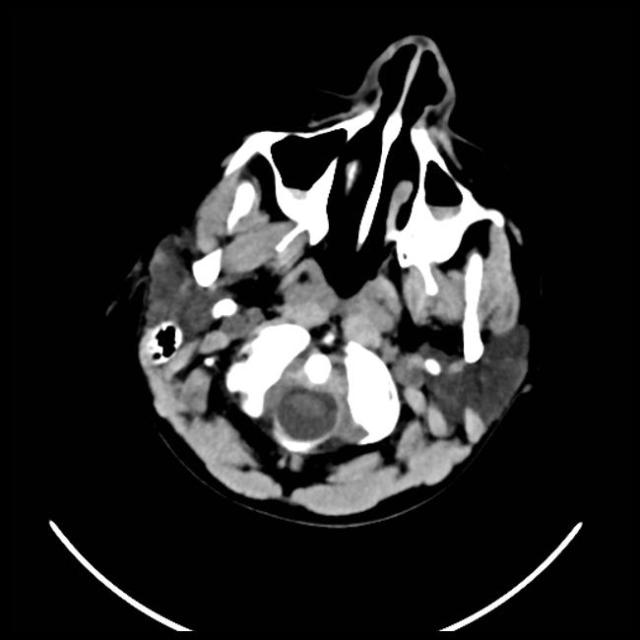lesion: (127, 31, 537, 523)
